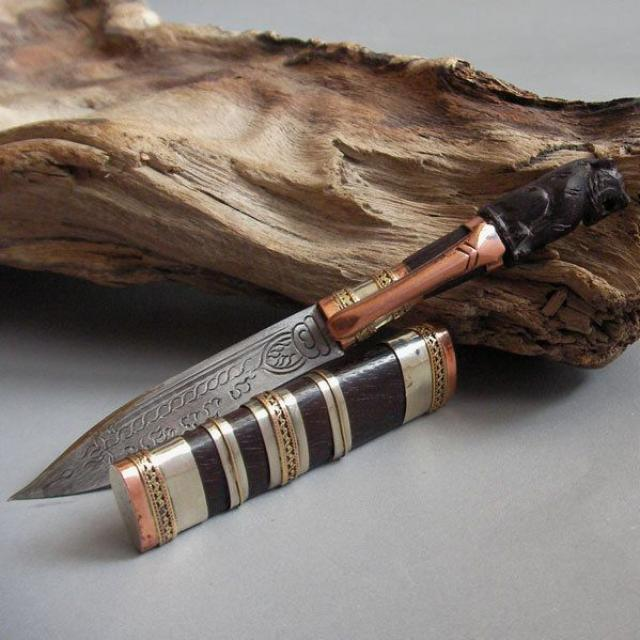short sword: (10, 143, 634, 560)
